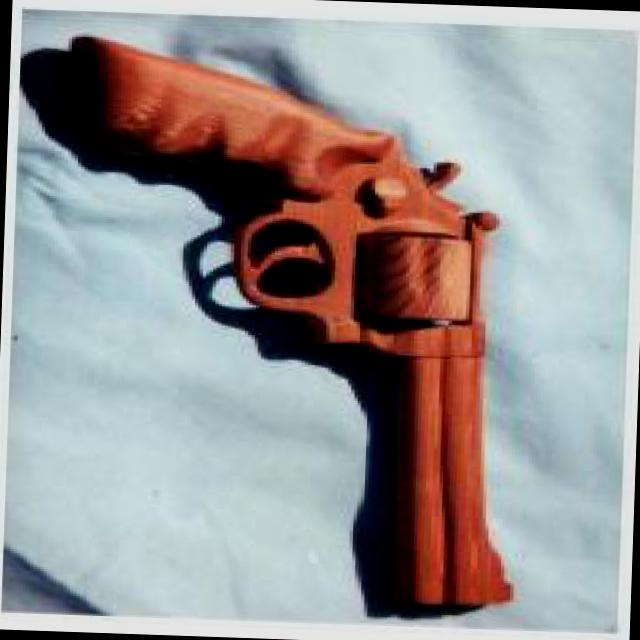handgun: (52, 31, 544, 606)
